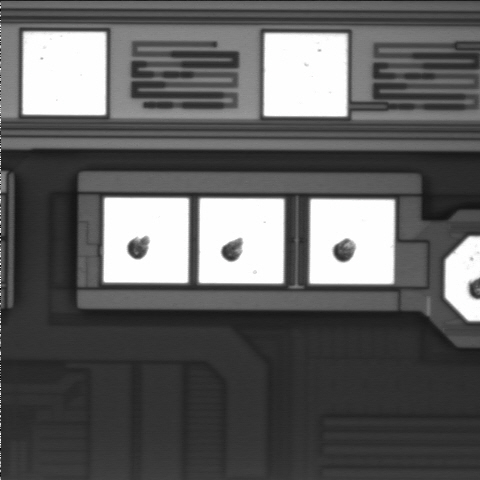pad: (104, 198, 189, 283), (199, 198, 284, 283), (310, 199, 394, 284), (23, 32, 106, 115), (264, 33, 347, 116)
